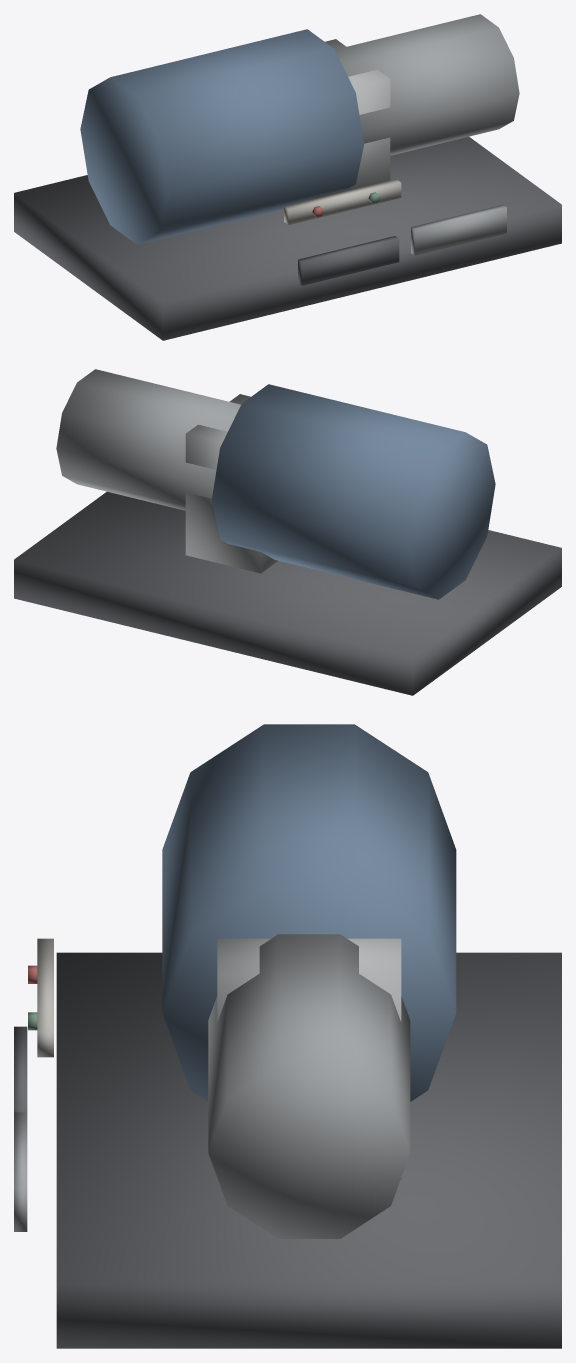
The model's file is circulation_pump__weathered.glb.
3 views of the same model, one above another, from view 1: azimuth 30°, elevation 25°; view 2: azimuth 150°, elevation 25°; view 3: azimuth 270°, elevation 25° (orthographic). The views are drawn at different scales.
Parts seen in each view (by area): view 1: world; view 2: world; view 3: world.
Boxes of the visible parts, x1,y1,x2,y2 form: world: (14, 14, 561, 340); world: (14, 369, 561, 695); world: (14, 724, 561, 1348).
Bounding box in the file's own units: 0.855 × 0.3882 × 0.5964.
